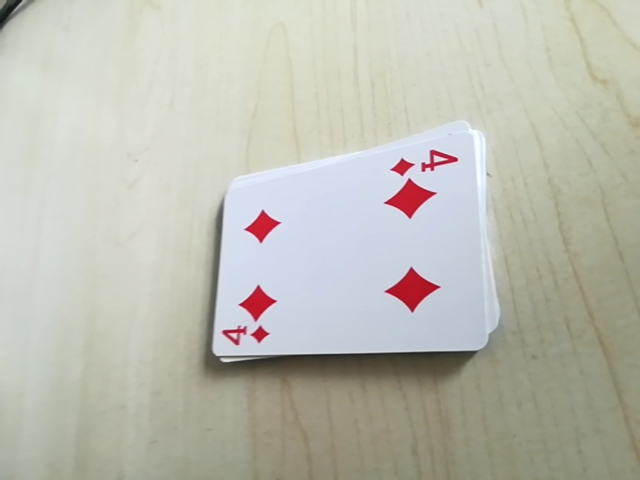fk 4: (389, 142, 462, 181), (214, 322, 278, 356)
